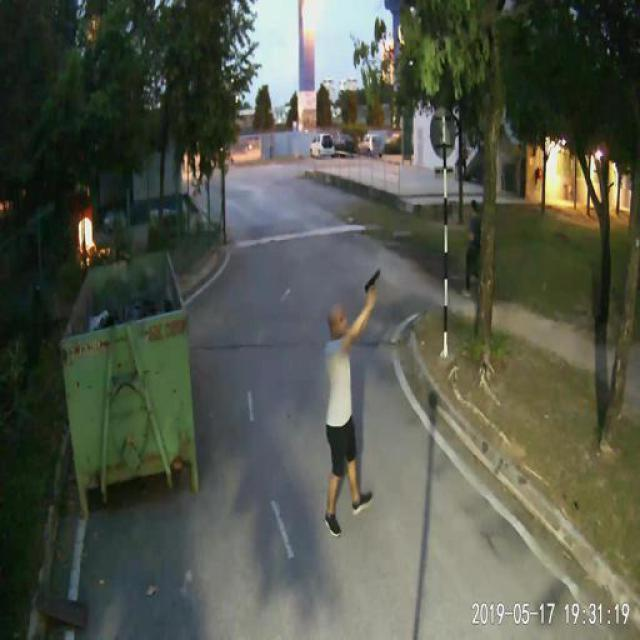weapon: (361, 268, 384, 294)
